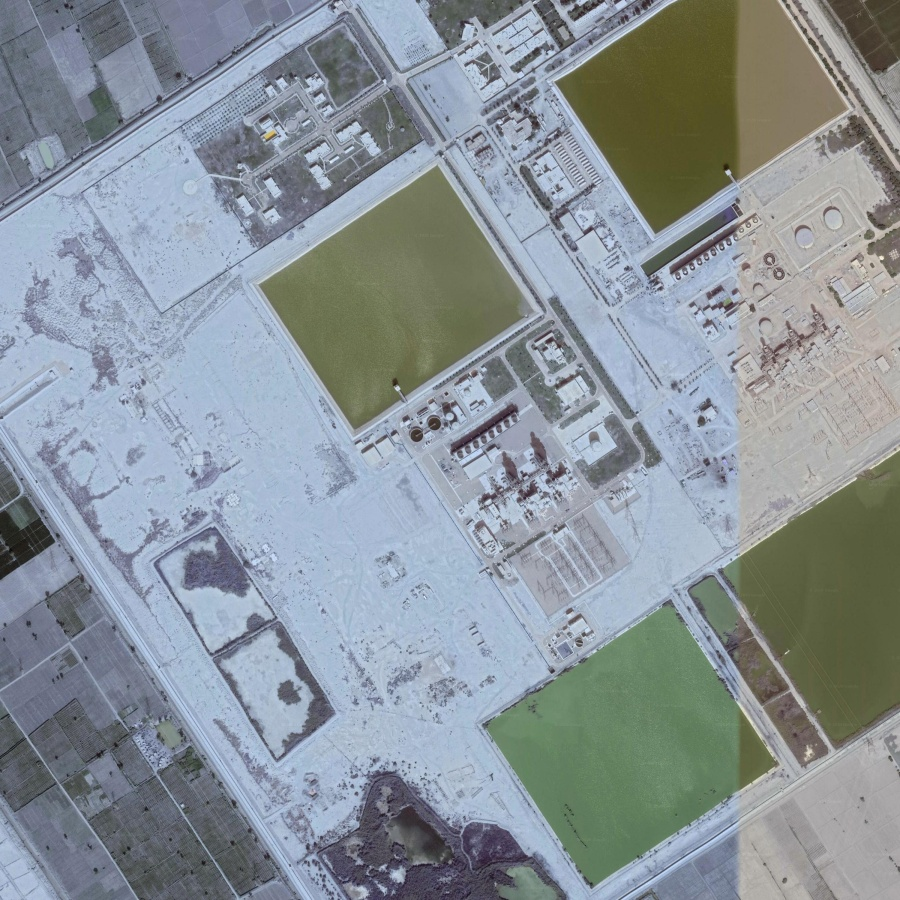PowerPlant: (406, 328, 648, 649), (688, 207, 883, 400)
